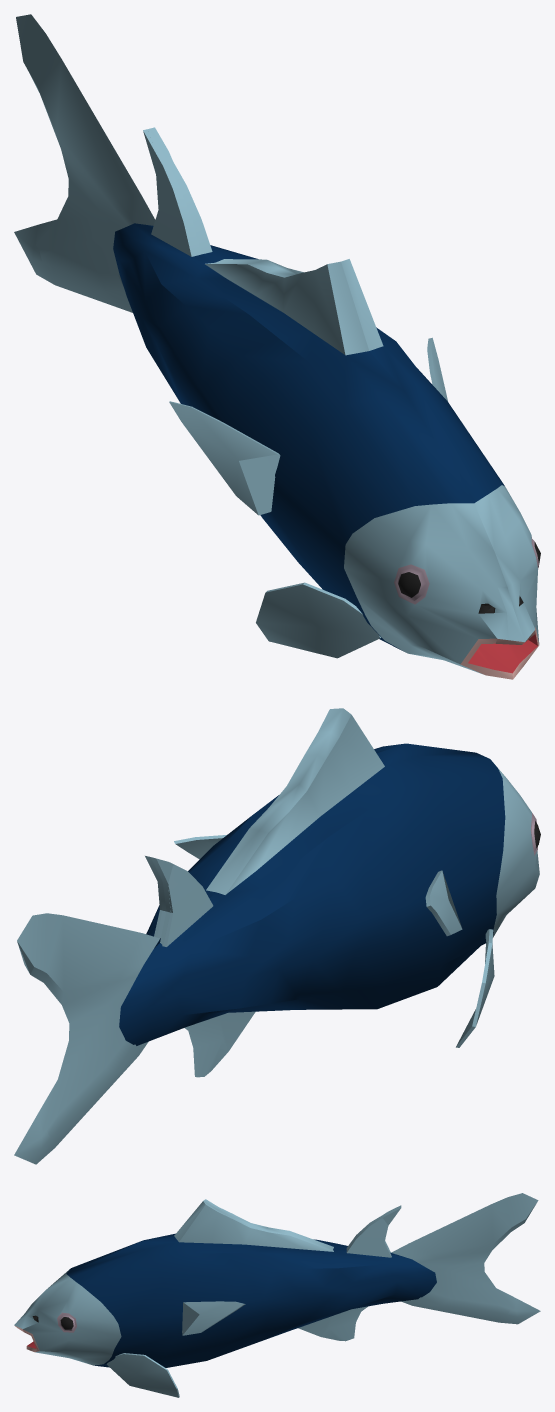
Rendered from fish.fbx.
The picture shows the model from 3 angles, top to bottom: view 1: azimuth 30°, elevation 25°; view 2: azimuth 150°, elevation 25°; view 3: azimuth 270°, elevation 25°; orthographic projection. The views are drawn at different scales.
Visible parts, largest first — view 1: fish; view 2: fish; view 3: fish.
Part boxes in pixels (x1,y1,x2,y2): fish: (14, 14, 540, 679); fish: (14, 708, 540, 1164); fish: (14, 1193, 540, 1397).
Bounding box in the file's own units: 275 × 357 × 935.
